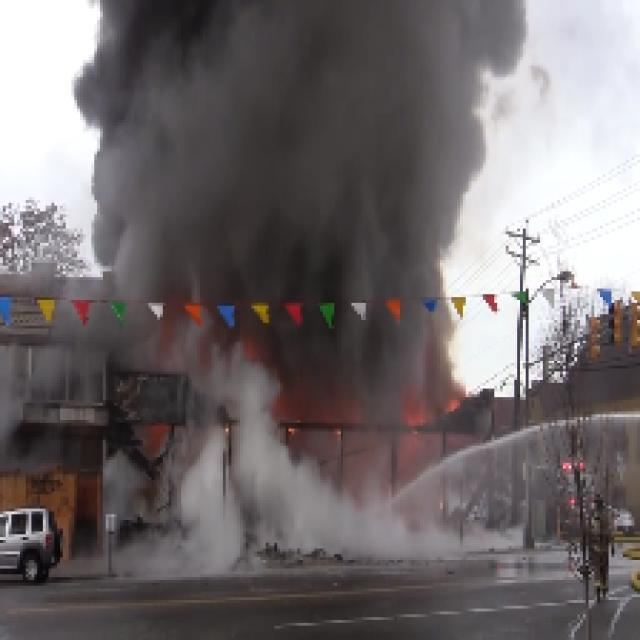Smoke: (107, 7, 435, 300), (182, 366, 286, 558)
